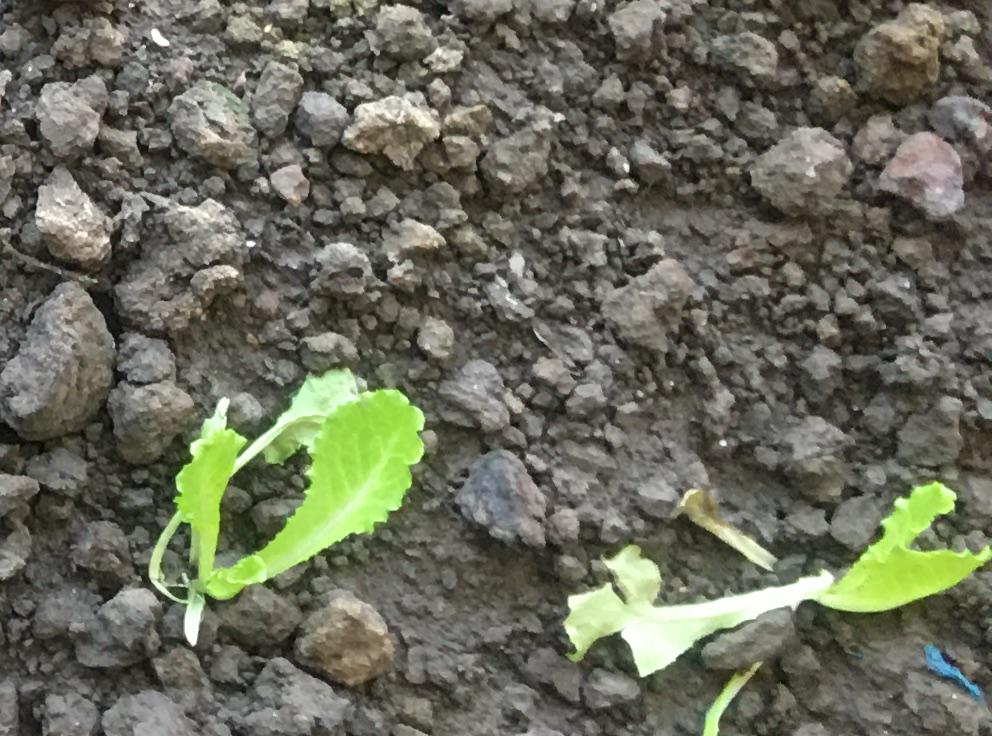block: (4, 277, 112, 447), (292, 596, 395, 689), (878, 128, 970, 228), (170, 74, 261, 172), (458, 446, 547, 544), (37, 168, 114, 272), (38, 75, 107, 159)
